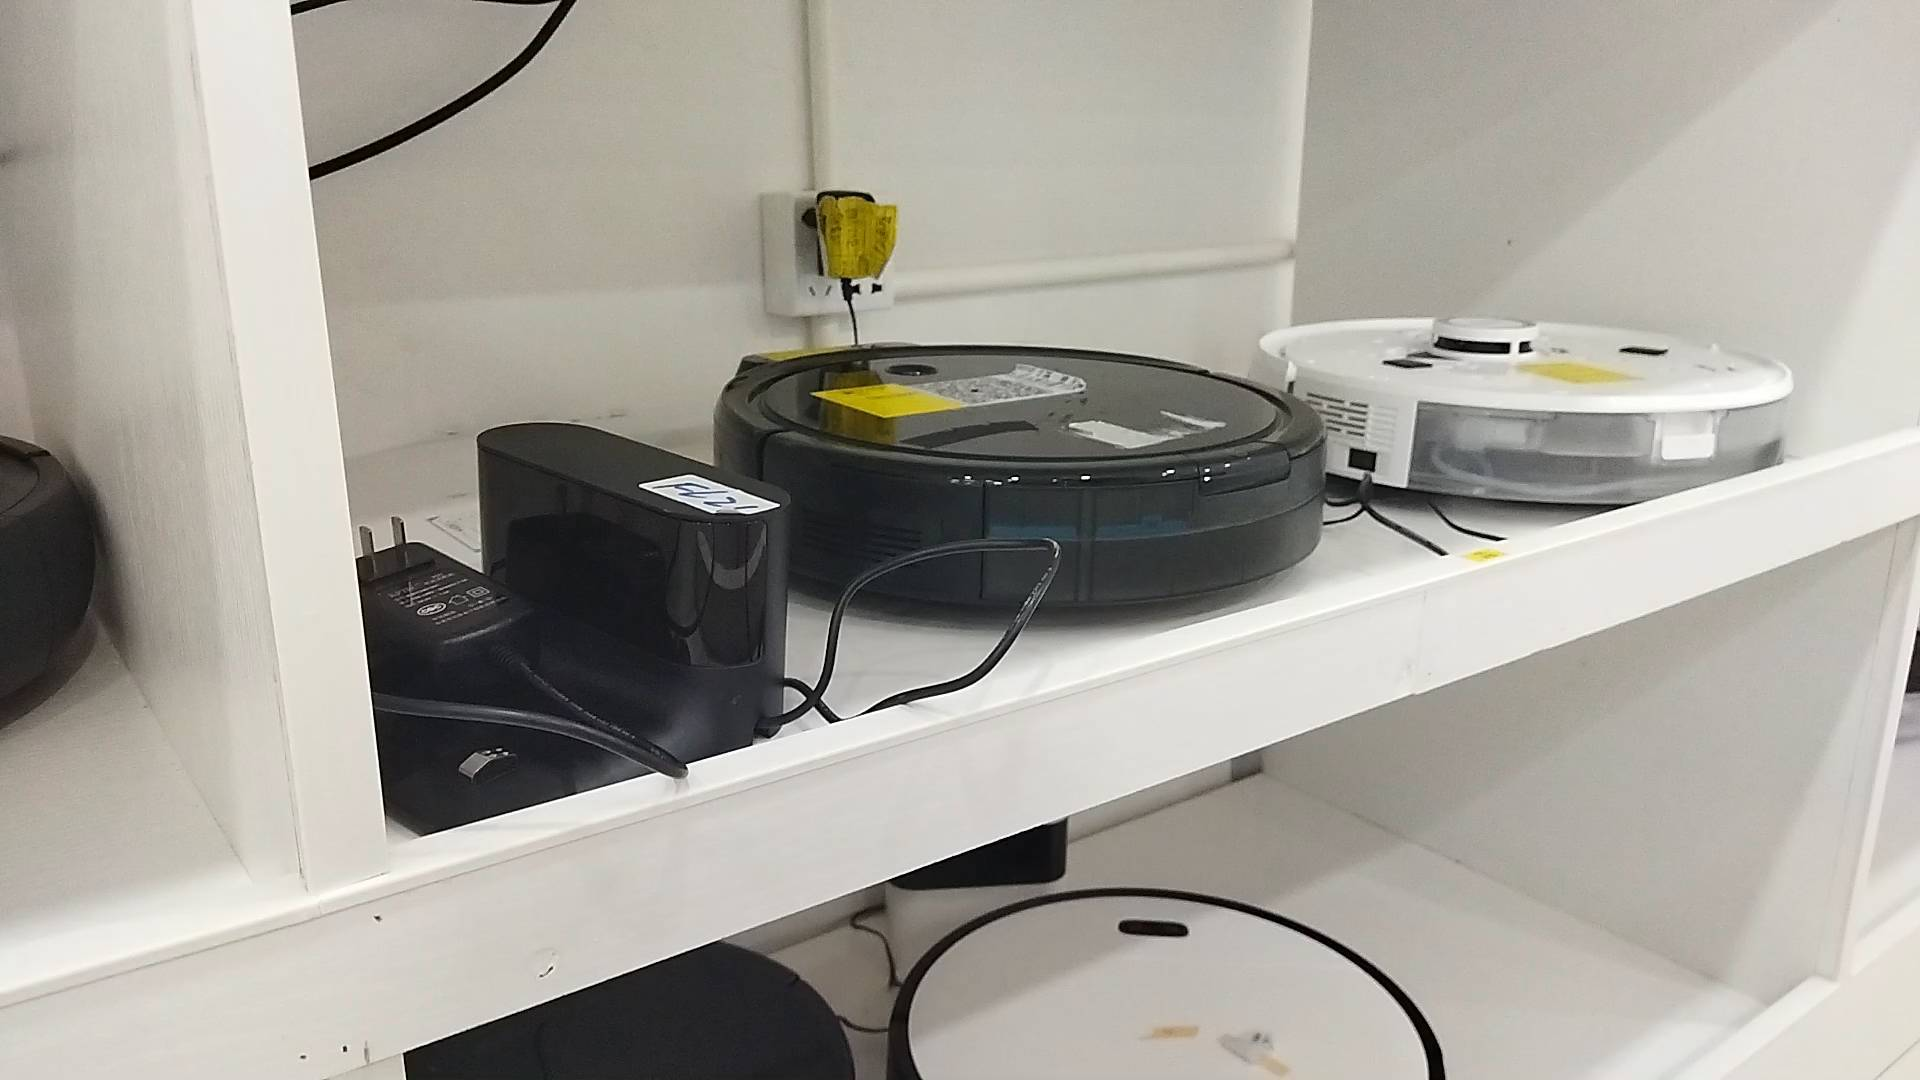recharge seat: (373, 419, 789, 833)
